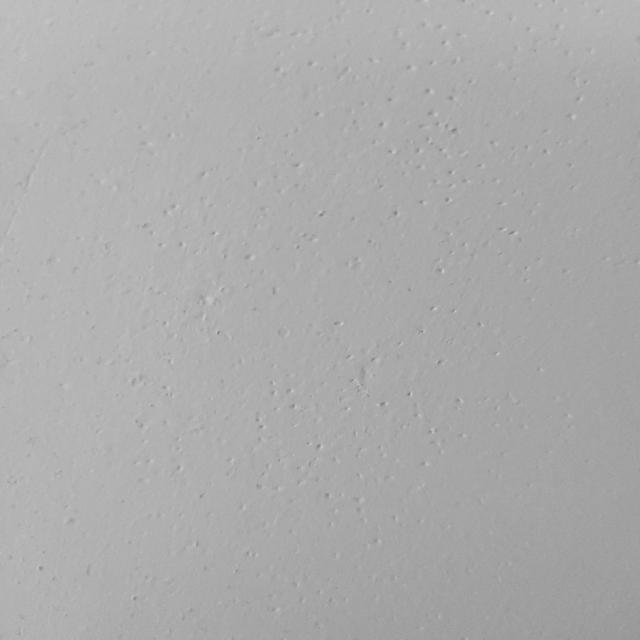rough and patchy surface: (66, 0, 594, 522), (0, 523, 417, 640)
